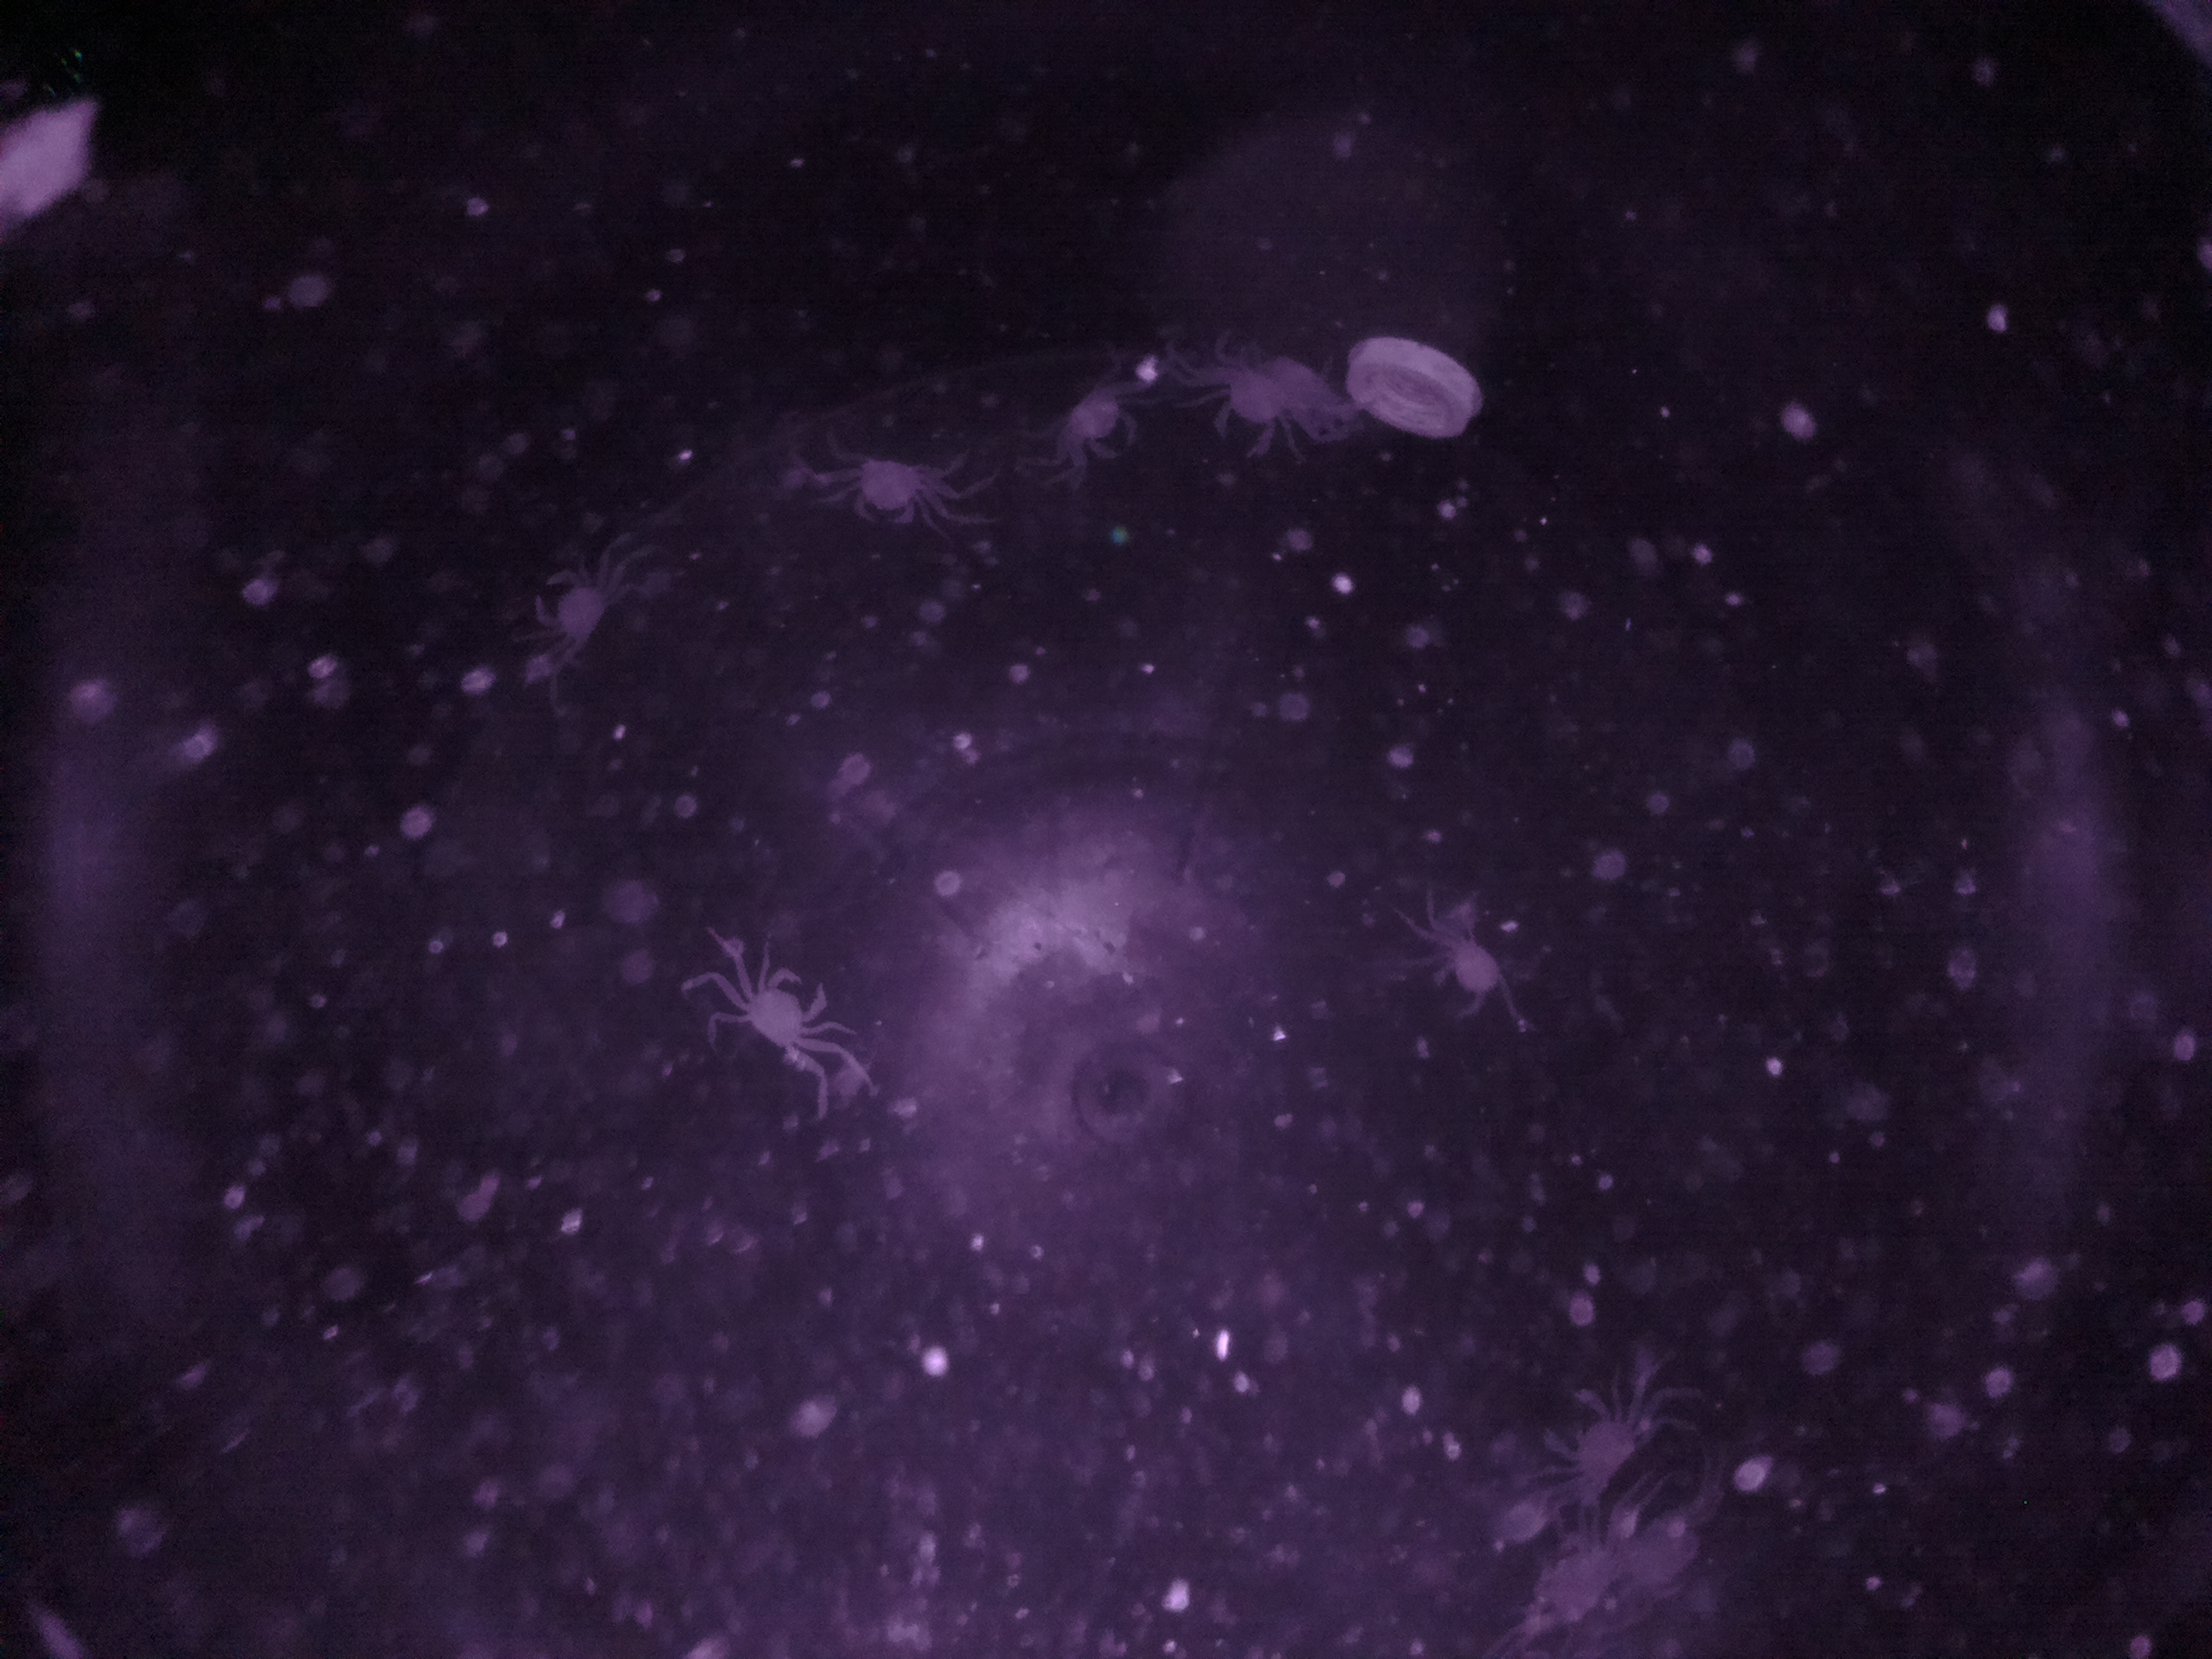Crab: (1529, 1377, 1649, 1499), (1414, 911, 1534, 1028), (726, 951, 841, 1073), (1038, 359, 1155, 471), (521, 556, 629, 653), (843, 436, 939, 538)
